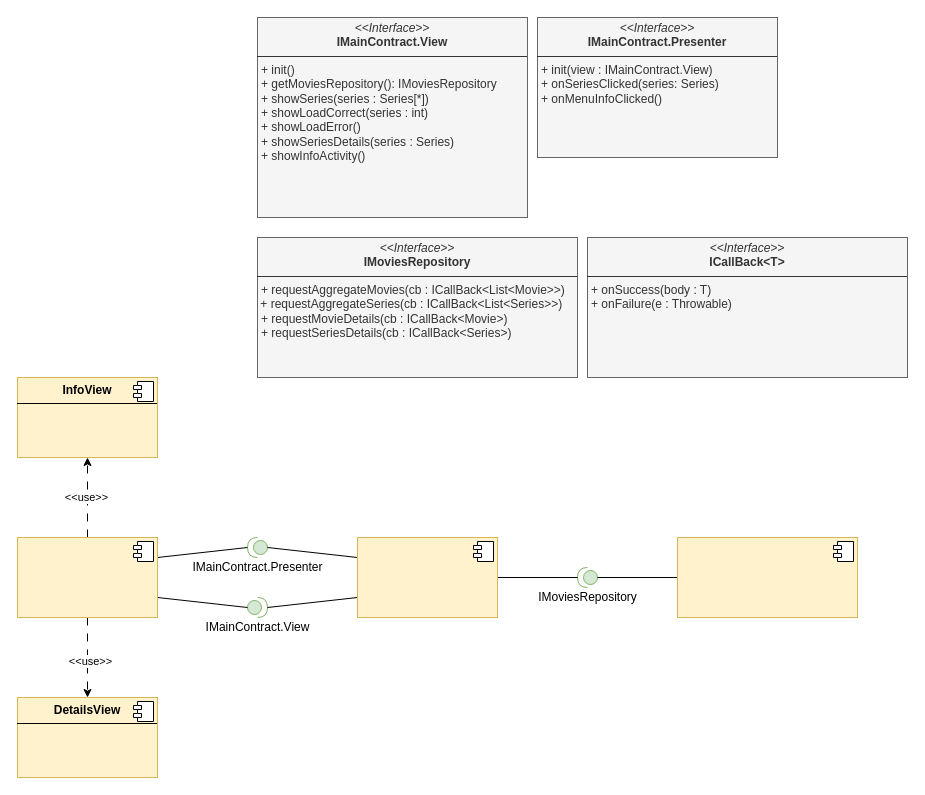
Image size: 925x795. Some labels were removed from this diagram. Here are the shapes that lost their labels. From the top down, the centre of each, then its label:
At (x=87, y=577): "MainView".
At (x=427, y=577): "MainPresenter - load()".
At (x=767, y=577): "MoviesRepository".
